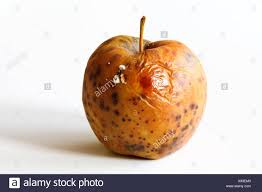damaged_apple: (86, 30, 206, 163)
